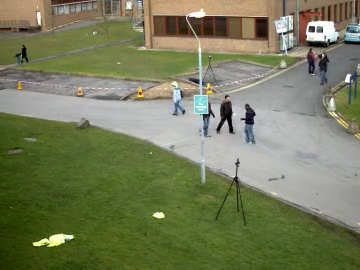person: (216, 94, 234, 135), (215, 94, 233, 134), (170, 81, 186, 116)
